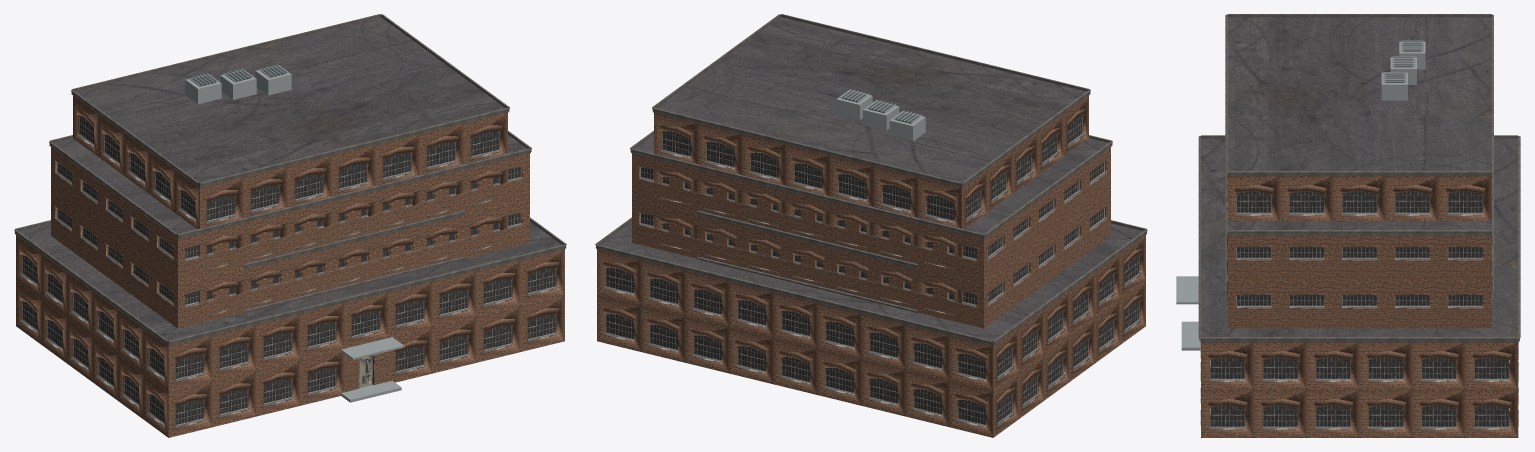
File: industry.glb
3 renders of one model, left to right at view 1: azimuth 30°, elevation 25°; view 2: azimuth 150°, elevation 25°; view 3: azimuth 270°, elevation 25°, orthographic. The views are drawn at different scales.
Parts seen in each view (by area): view 1: wall_window_centered_large_02 (×41), textured roof (×3), wall_window_centered_large_03 (×29), window_centered_large_02 (×24), air handling unit (×3), wall_door_centered_small_01, entrance canopy, entrance steps; view 2: wall_window_centered_large_02 (×42), textured roof (×3), wall_window_centered_large_03 (×31), window_centered_large_02 (×25), air handling unit (×3); view 3: textured roof (×3), wall_window_centered_large_02 (×17), wall_window_centered_large_03 (×10), window_centered_large_02 (×17), window_centered_large_03 (×10), air handling unit (×2), entrance canopy, entrance steps.
Boxes of the visible parts, bbox=[...] form: wall_window_centered_large_02 (×41): bbox=[16, 95, 564, 437]; textured roof (×3): bbox=[19, 17, 561, 345]; wall_window_centered_large_03 (×29): bbox=[51, 147, 529, 328]; window_centered_large_02 (×24): bbox=[175, 131, 557, 428]; air handling unit (×3): bbox=[185, 65, 291, 104]; wall_door_centered_small_01: bbox=[344, 351, 388, 391]; entrance canopy: bbox=[341, 337, 404, 359]; entrance steps: bbox=[341, 380, 401, 402]; wall_window_centered_large_02 (×42): bbox=[597, 95, 1145, 437]; textured roof (×3): bbox=[600, 17, 1142, 345]; wall_window_centered_large_03 (×31): bbox=[632, 147, 1110, 328]; window_centered_large_02 (×25): bbox=[603, 131, 986, 427]; air handling unit (×3): bbox=[836, 90, 925, 141]; textured roof (×3): bbox=[1201, 17, 1518, 336]; wall_window_centered_large_02 (×17): bbox=[1201, 176, 1518, 437]; wall_window_centered_large_03 (×10): bbox=[1227, 235, 1491, 328]; window_centered_large_02 (×17): bbox=[1209, 191, 1509, 430]; window_centered_large_03 (×10): bbox=[1234, 246, 1484, 308]; air handling unit (×2): bbox=[1381, 41, 1425, 100]; entrance canopy: bbox=[1176, 276, 1198, 304]; entrance steps: bbox=[1181, 321, 1200, 350].
Size of the model in its own units: 27.26 by 16.33 by 19.53.
Materials: 8 (6 with a texture image).
